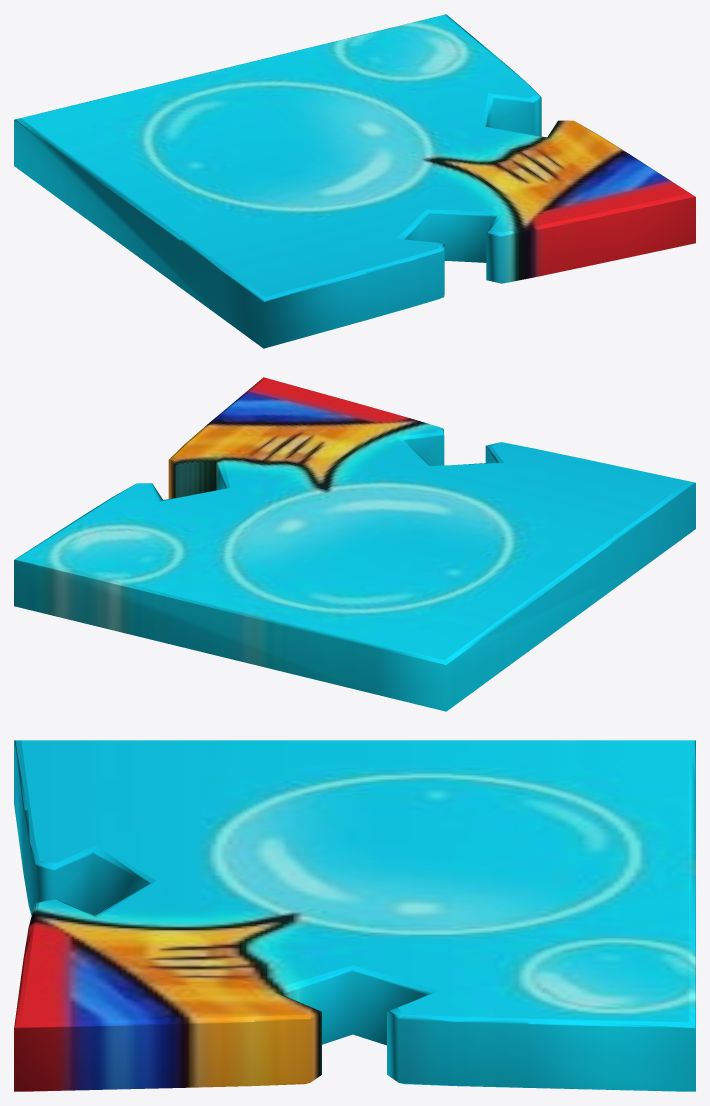
3 views of the same model, one above another, from view 1: azimuth 30°, elevation 25°; view 2: azimuth 150°, elevation 25°; view 3: azimuth 270°, elevation 25° (orthographic). The views are drawn at different scales.
Parts seen in each view (by area): view 1: jigsawPuzzle4x3_Grp_piece_1x1_Grp_Geo; view 2: jigsawPuzzle4x3_Grp_piece_1x1_Grp_Geo; view 3: jigsawPuzzle4x3_Grp_piece_1x1_Grp_Geo.
Part boxes in pixels (left/top/right/bottom): jigsawPuzzle4x3_Grp_piece_1x1_Grp_Geo: left=14, top=14, right=695, bottom=348; jigsawPuzzle4x3_Grp_piece_1x1_Grp_Geo: left=14, top=377, right=695, bottom=711; jigsawPuzzle4x3_Grp_piece_1x1_Grp_Geo: left=14, top=740, right=695, bottom=1091.
Size of the model in its own units: 0.9787 by 0.11 by 0.9787.
1 material, 1 textured.
